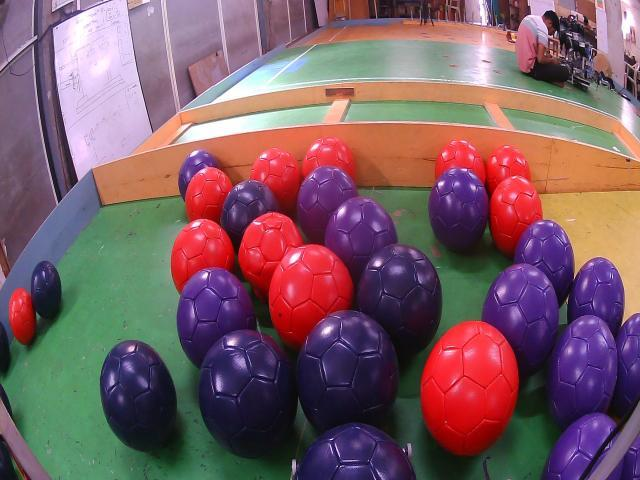jambhalya: (481, 263, 559, 378), (546, 315, 618, 430), (176, 267, 256, 367), (325, 197, 398, 287), (514, 220, 575, 304), (429, 167, 489, 252), (541, 413, 615, 480), (298, 165, 358, 244), (568, 257, 625, 337), (614, 313, 640, 417), (179, 150, 219, 199)
kaalyya: (199, 330, 298, 458), (296, 310, 399, 432), (358, 243, 442, 357), (100, 340, 178, 452), (295, 423, 415, 480), (220, 180, 280, 253), (30, 260, 61, 318)
